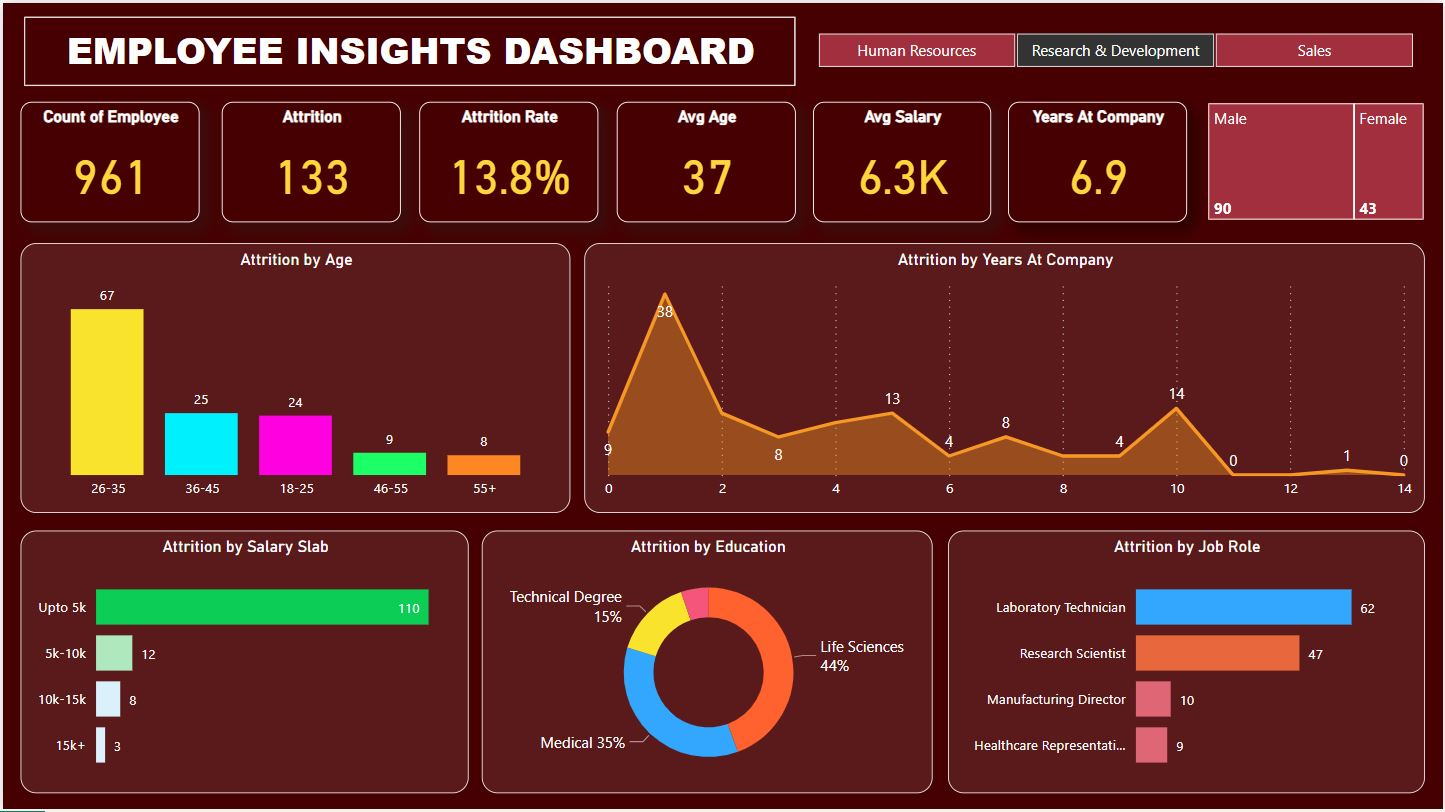

What the dashboard file says about the page in this screenshot:
{"tool":"powerbi","page":{"name":"Page 1","canvas":[1280,720],"ordinal":0},"visuals":[{"type":"card","title":"Count of Employee","fields":{"Values":["CountNonNull(HR_Analytics.EmpID)"]},"box":[15.5,88.1,159.5,107.1],"z":0},{"type":"card","title":"Attrition","fields":{"Values":["Sum(HR_Analytics.AttritionCount)"]},"box":[194,88.1,159.5,107.1],"z":1000},{"type":"card","title":"Attrition Rate","fields":{"Values":["HR_Analytics.AttritionRate"]},"box":[370.1,88.1,159.5,107.1],"z":2000},{"type":"card","title":"Avg Age","fields":{"Values":["Avg(HR_Analytics.Age)"]},"box":[545.1,88.1,159.5,107.1],"z":3000},{"type":"card","title":"Avg Salary","fields":{"Values":["Avg(HR_Analytics.MonthlyIncome)"]},"box":[720,88.1,158.3,107.1],"z":4000},{"type":"card","title":"Years At Company","fields":{"Values":["Avg(HR_Analytics.YearsAtCompany)"]},"box":[893.8,88.1,159.5,107.1],"z":5000},{"type":"donutChart","title":"Attrition by Education","fields":{"Category":["HR_Analytics.EducationField"],"Y":["Sum(HR_Analytics.AttritionCount)"]},"box":[426,468.9,401.1,233.3],"z":6000},{"type":"clusteredColumnChart","title":"Attrition by Age","fields":{"Category":["HR_Analytics.AgeGroup"],"Y":["Sum(HR_Analytics.AttritionCount)"]},"box":[15.5,213,489.1,240.4],"z":7000},{"type":"barChart","title":"Attrition by Salary Slab","fields":{"Category":["HR_Analytics.SalarySlab"],"Y":["Sum(HR_Analytics.AttritionCount)"]},"box":[15.5,468.9,398.7,233.3],"z":8000},{"type":"barChart","title":"Attrition by Job Role","fields":{"Y":["Sum(HR_Analytics.AttritionCount)"],"Category":["HR_Analytics.JobRole"]},"box":[840.2,468.9,423.7,233.3],"z":9000},{"type":"areaChart","title":"Attrition by Years At Company","fields":{"Y":["Sum(HR_Analytics.AttritionCount)"],"Category":["HR_Analytics.YearsAtCompany"]},"box":[516.5,213,747.4,240.4],"z":10000},{"type":"treemap","title":"Attrition by Gender","fields":{"Group":["HR_Analytics.Gender"],"Values":["Sum(HR_Analytics.AttritionCount)"]},"box":[1066.3,84.5,201.1,113.1],"z":11000},{"type":"slicer","fields":{"Values":["HR_Analytics.Department"]},"box":[698.6,20.2,578.4,44],"z":12000},{"type":"textbox","box":[19,11.9,685.5,61.9],"z":13000}]}

Visuals, with their boxes in screenshot pixels (x1, y1, x2, y2), scaled from the page's 1280x720 canvas onto the 1445x812 screenshot:
"Count of Employee" card: (17,99,198,220)
"Attrition" card: (219,99,399,220)
"Attrition Rate" card: (418,99,598,220)
"Avg Age" card: (615,99,795,220)
"Avg Salary" card: (813,99,992,220)
"Years At Company" card: (1009,99,1189,220)
"Attrition by Education" donutChart: (481,529,934,792)
"Attrition by Age" clusteredColumnChart: (17,240,570,511)
"Attrition by Salary Slab" barChart: (17,529,468,792)
"Attrition by Job Role" barChart: (949,529,1427,792)
"Attrition by Years At Company" areaChart: (583,240,1427,511)
"Attrition by Gender" treemap: (1204,95,1431,223)
slicer - HR_Analytics.Department: (789,23,1442,72)
textbox: (21,13,795,83)
